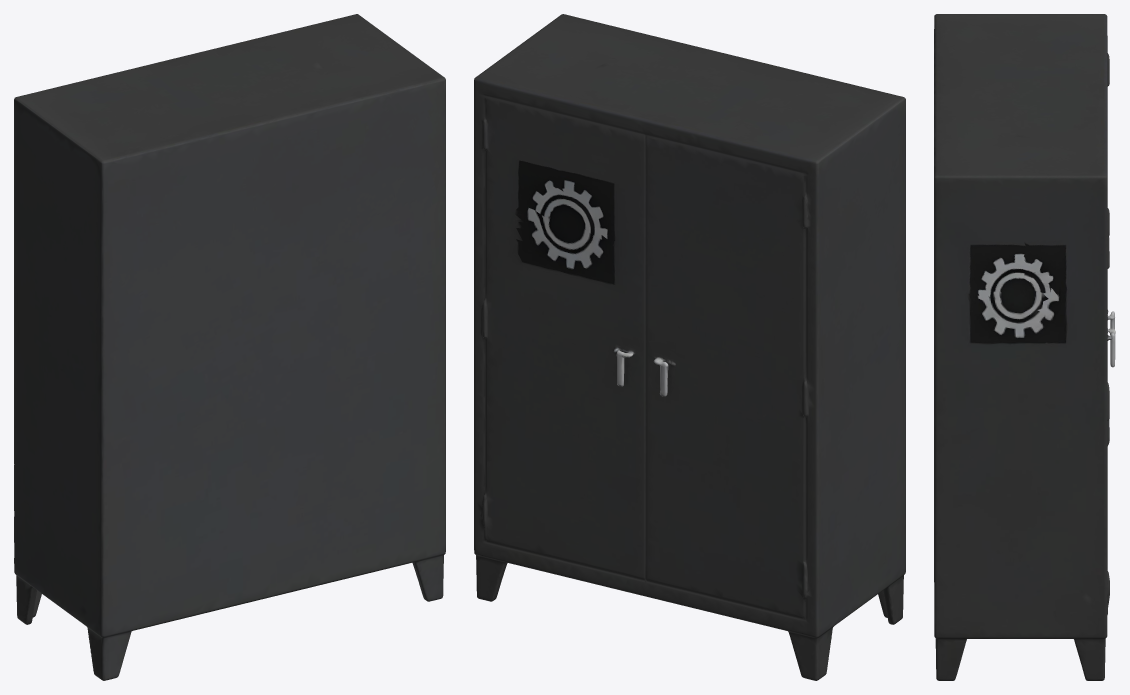
Rendered from cabinet.fbx.
3 views of the same model, side by side, from view 1: azimuth 30°, elevation 25°; view 2: azimuth 150°, elevation 25°; view 3: azimuth 270°, elevation 25° (orthographic). The views are drawn at different scales.
Parts seen in each view (by area): view 1: tripo_node_8f8ef3e9-6de6-499a-ade9-baf808296e97; view 2: tripo_node_8f8ef3e9-6de6-499a-ade9-baf808296e97; view 3: tripo_node_8f8ef3e9-6de6-499a-ade9-baf808296e97.
Part boxes in pixels (left/top/right/bottom): tripo_node_8f8ef3e9-6de6-499a-ade9-baf808296e97: left=14, top=14, right=445, bottom=680; tripo_node_8f8ef3e9-6de6-499a-ade9-baf808296e97: left=474, top=14, right=905, bottom=680; tripo_node_8f8ef3e9-6de6-499a-ade9-baf808296e97: left=934, top=14, right=1115, bottom=680.
Size of the model in its own units: 128 by 185 by 60.18.
